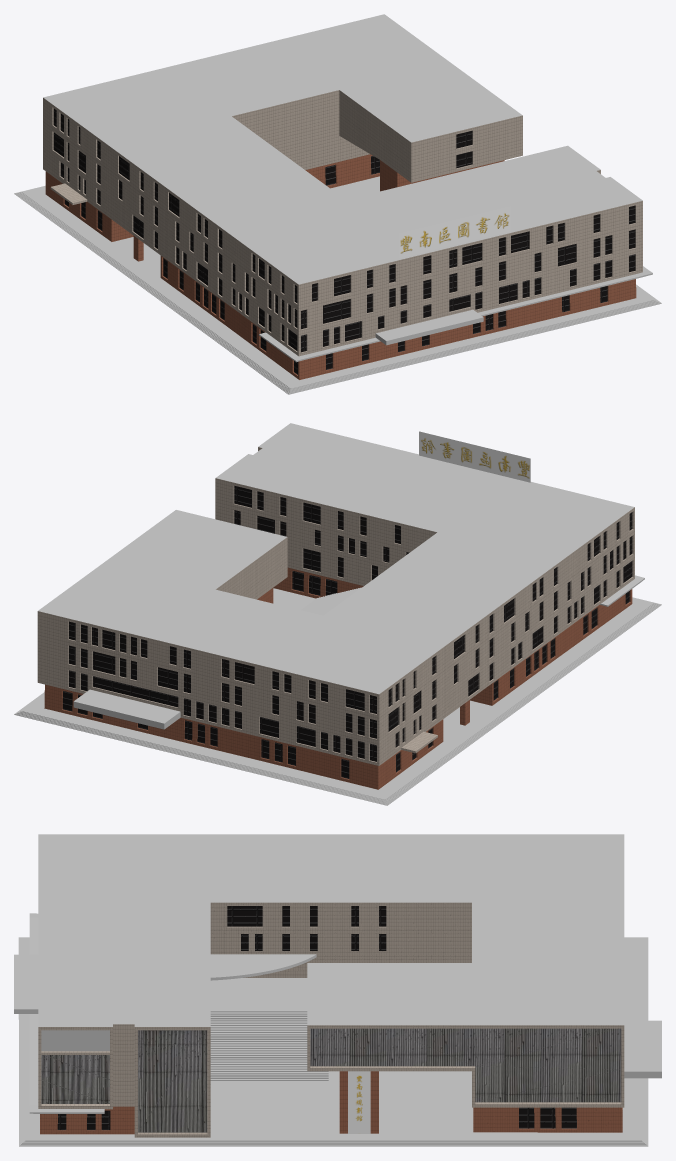
File: tushuguan-1.FBX
3 views of the same model, one above another, from view 1: azimuth 30°, elevation 25°; view 2: azimuth 150°, elevation 25°; view 3: azimuth 270°, elevation 25° (orthographic). The views are drawn at different scales.
Parts seen in each view (by area): view 1: tushu-5, tushu-1, tushu-8, tushu-6, tushu-3, tushu-7; view 2: tushu-5, tushu-1, tushu-8, tushu-6, tushu-3, tushu-7; view 3: tushu-5, tushu-6, tushu-2, tushu-1, tushu-3, tushu-8, tushu-4, tushu-9.
Part boxes in pixels (box(x1,y1,x2,y2)): tushu-5: box(43, 14, 652, 362); tushu-1: box(43, 90, 642, 356); tushu-8: box(53, 108, 635, 374); tushu-6: box(14, 176, 661, 394); tushu-3: box(45, 154, 636, 379); tushu-7: box(399, 206, 510, 257); tushu-5: box(38, 423, 644, 729); tushu-1: box(37, 447, 634, 765); tushu-8: box(62, 485, 632, 778); tushu-6: box(14, 587, 661, 805); tushu-3: box(44, 567, 632, 789); tushu-7: box(419, 431, 530, 482); tushu-5: box(14, 834, 661, 1113); tushu-6: box(18, 937, 648, 1146); tushu-2: box(41, 1028, 621, 1132); tushu-1: box(38, 902, 624, 1137); tushu-3: box(40, 1071, 622, 1134); tushu-8: box(57, 906, 576, 1130); tushu-4: box(41, 1030, 109, 1051); tushu-9: box(348, 1071, 370, 1133).
Size of the model in its own units: 80.22 by 105 by 25.46.
